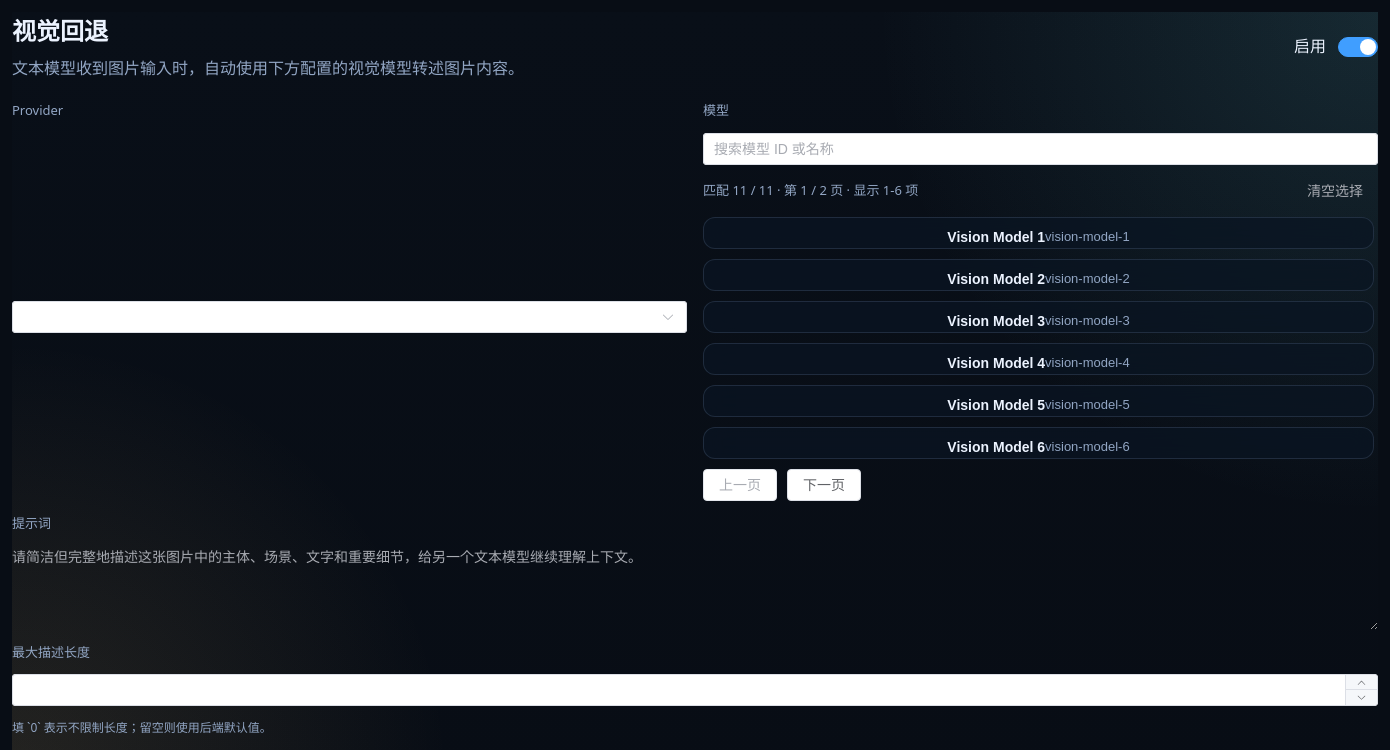
VisionFallbackPanel › filters and paginates model options inside AI settings
Expected: the number of buttons with class "model-option" is 6, [703,217,1374,249]; [703,259,1374,291]; [703,301,1374,333]; [703,343,1374,375]; [703,385,1374,417]; [703,427,1374,459]
Click the button with test id "vision-model-next-page" at (824, 485), box [787,469,861,501]
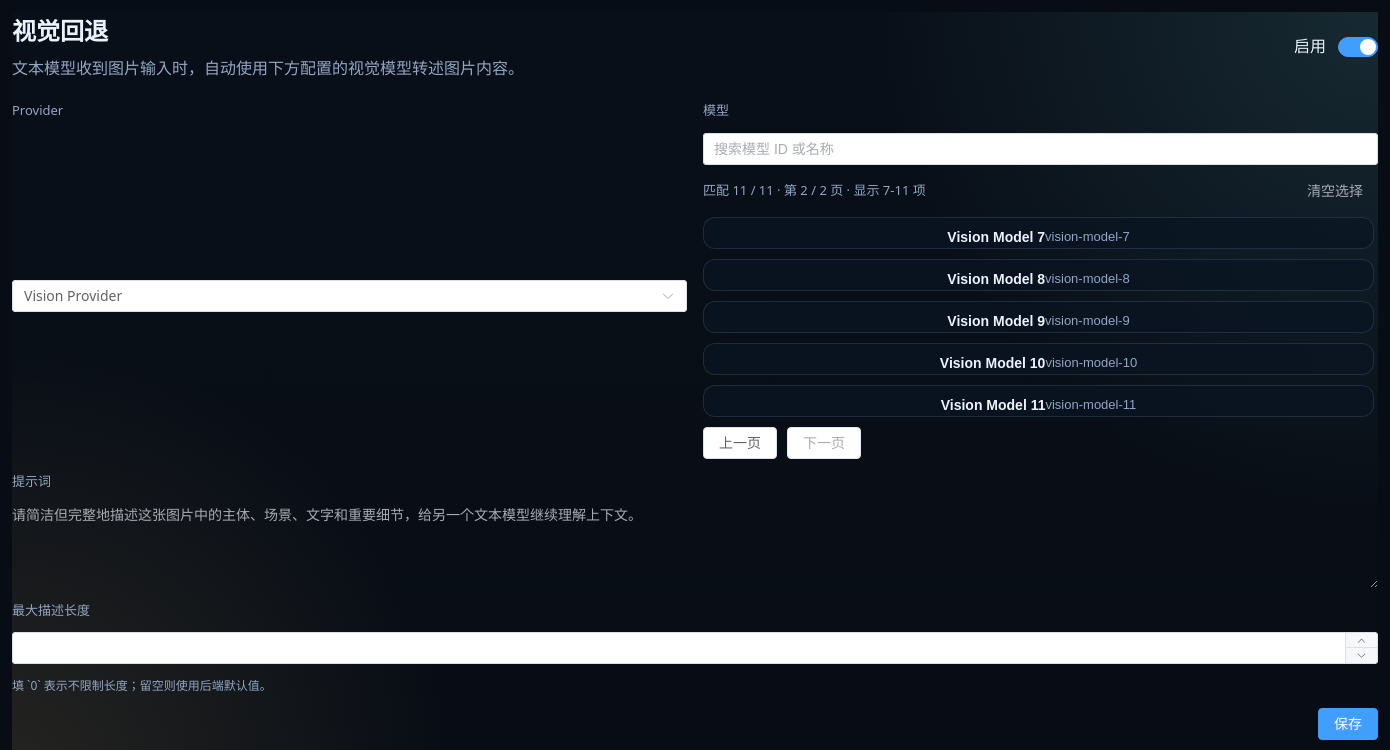
Result: the text "第 2 / 2 页" is shown at [777,181,926,199]
Result: the text "Vision Model 7" is shown at [947,230,1045,244]
Type "vision-model-11" into the field with test id "vision-model-search" at (1040, 149), box [714,134,1367,164]
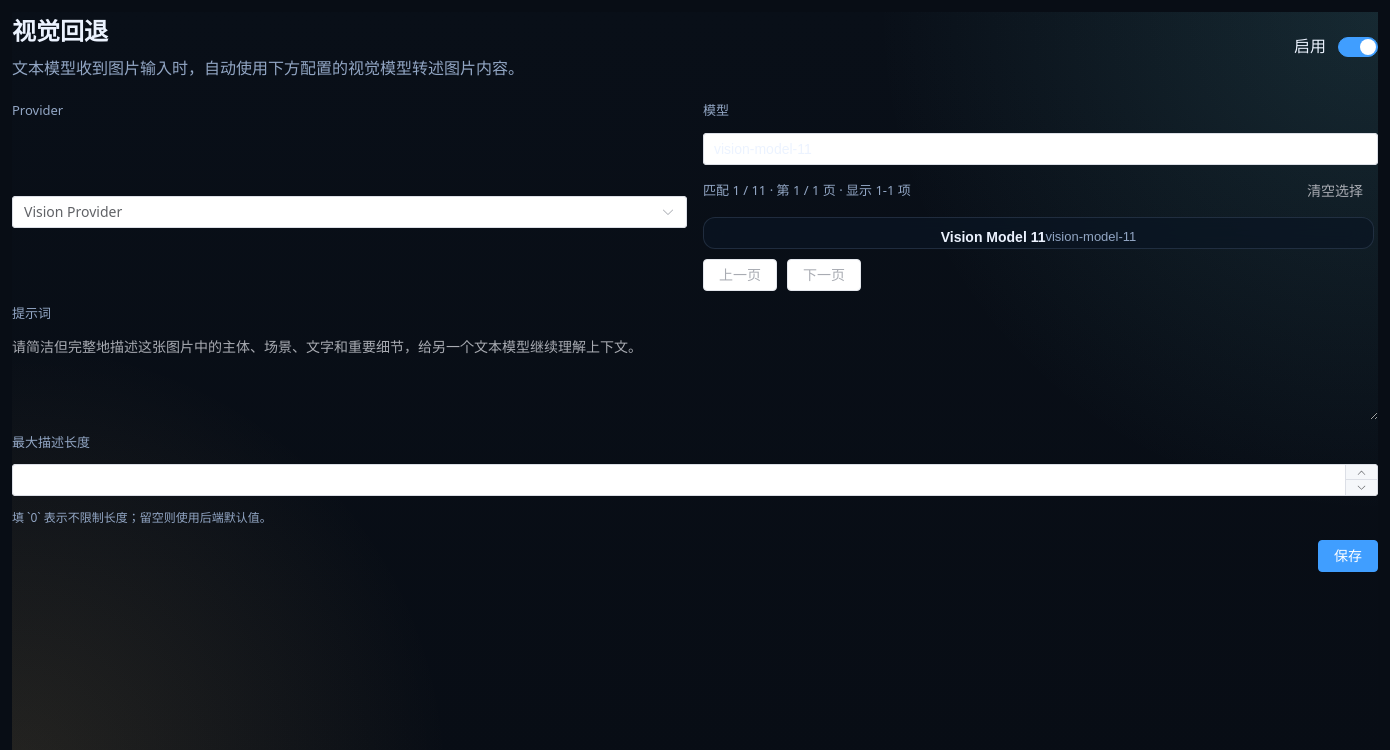
Result: the text "匹配 1 / 11" is shown at [703,181,770,199]
Result: the text "第 1 / 1 页" is shown at [770,181,911,199]
Result: the number of buttons with class "model-option" is 1 at [703,217,1374,249]
